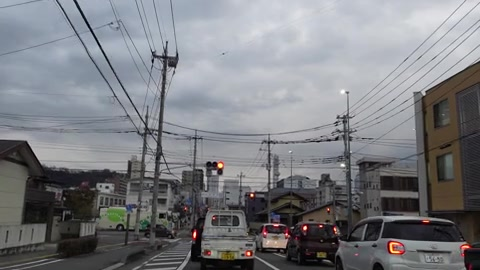traffic_sign: (124, 202, 133, 211)
